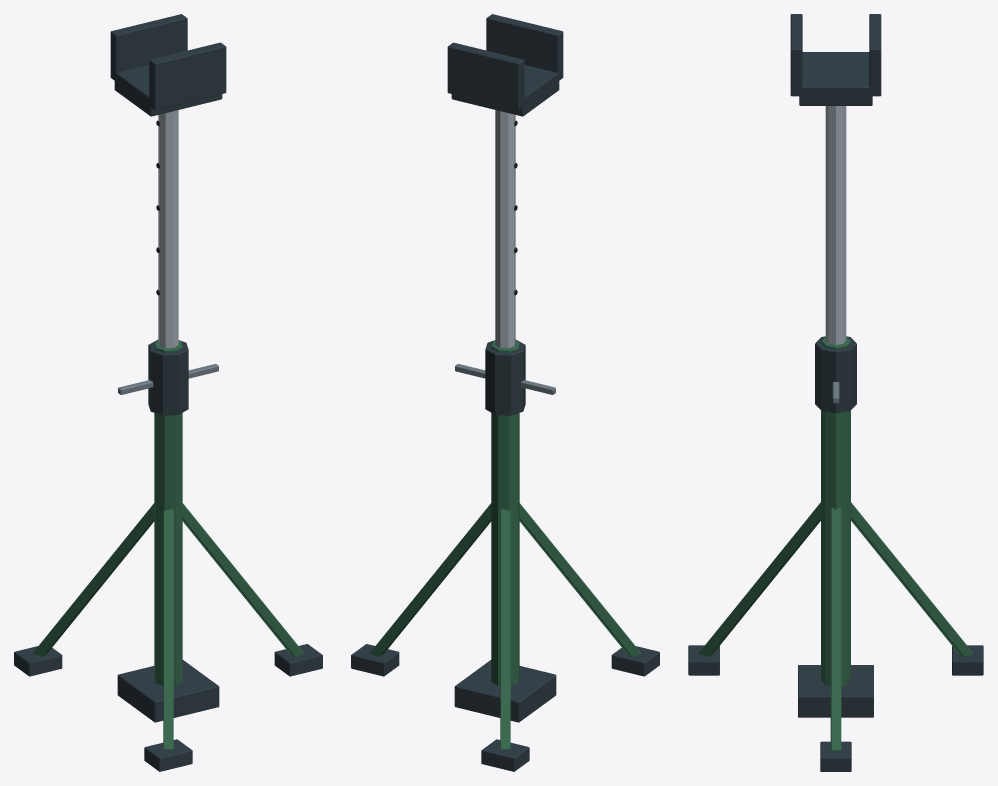
Rendered from b07_adjustable_steel_shoring_tripod.glb.
3 renders of one model, left to right at view 1: azimuth 30°, elevation 25°; view 2: azimuth 150°, elevation 25°; view 3: azimuth 270°, elevation 25°, orthographic.
Visible parts, largest first — view 1: b07_adjustable_steel_shoring_tripod; view 2: b07_adjustable_steel_shoring_tripod; view 3: b07_adjustable_steel_shoring_tripod.
Boxes of the visible parts, x1,y1,x2,y2 form: b07_adjustable_steel_shoring_tripod: (14,14,322,771); b07_adjustable_steel_shoring_tripod: (351,14,659,771); b07_adjustable_steel_shoring_tripod: (688,14,983,771).
Size of the model in its own units: 1.02 by 2.82 by 1.12.
